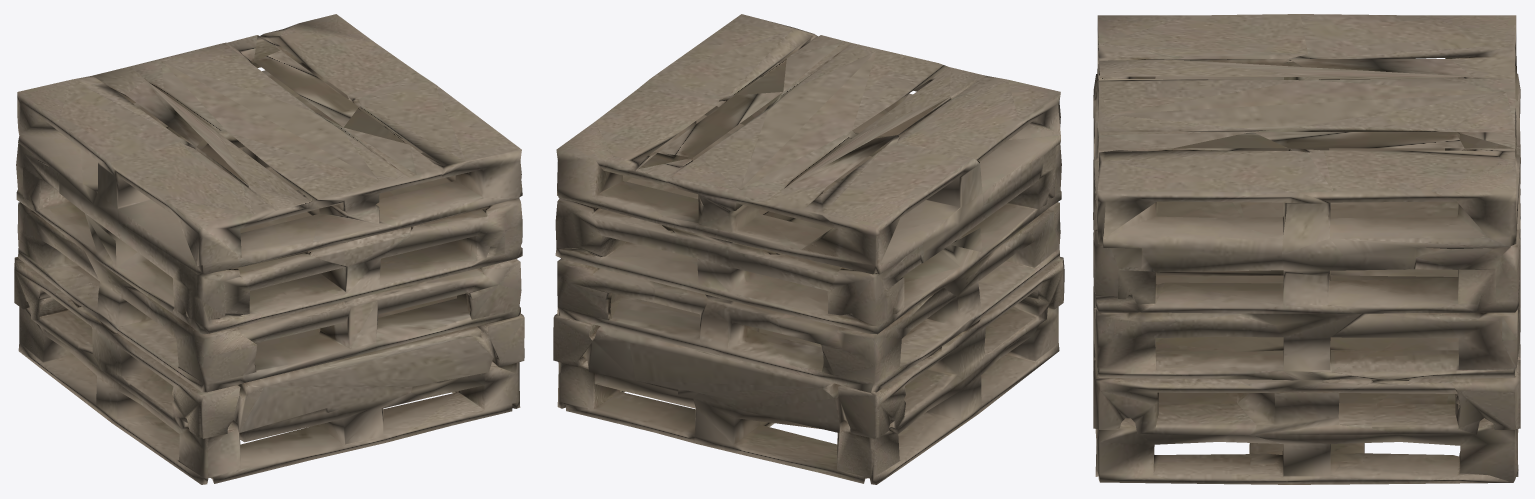
The model's file is docaPallets.glb.
3 renders of one model, left to right at view 1: azimuth 30°, elevation 25°; view 2: azimuth 150°, elevation 25°; view 3: azimuth 270°, elevation 25°, orthographic. The views are drawn at different scales.
Bounding box in the file's own units: 1.9 × 1.43 × 1.9.
Materials: 1 (1 with a texture image).
